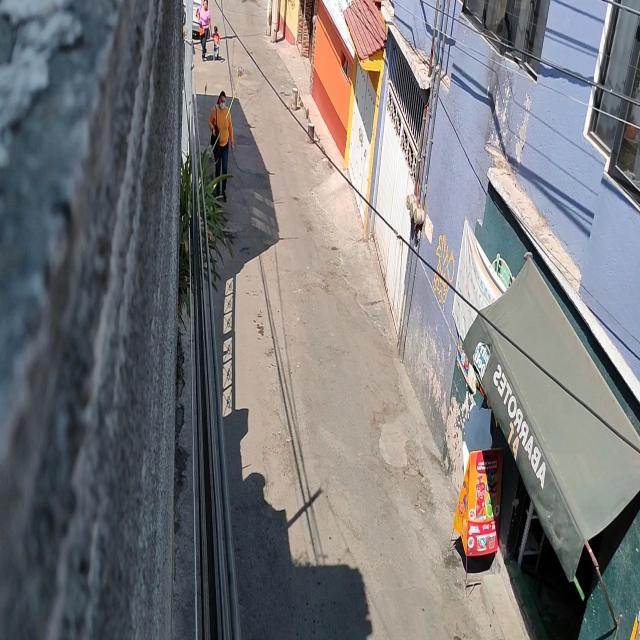adult: (208, 88, 234, 203)
